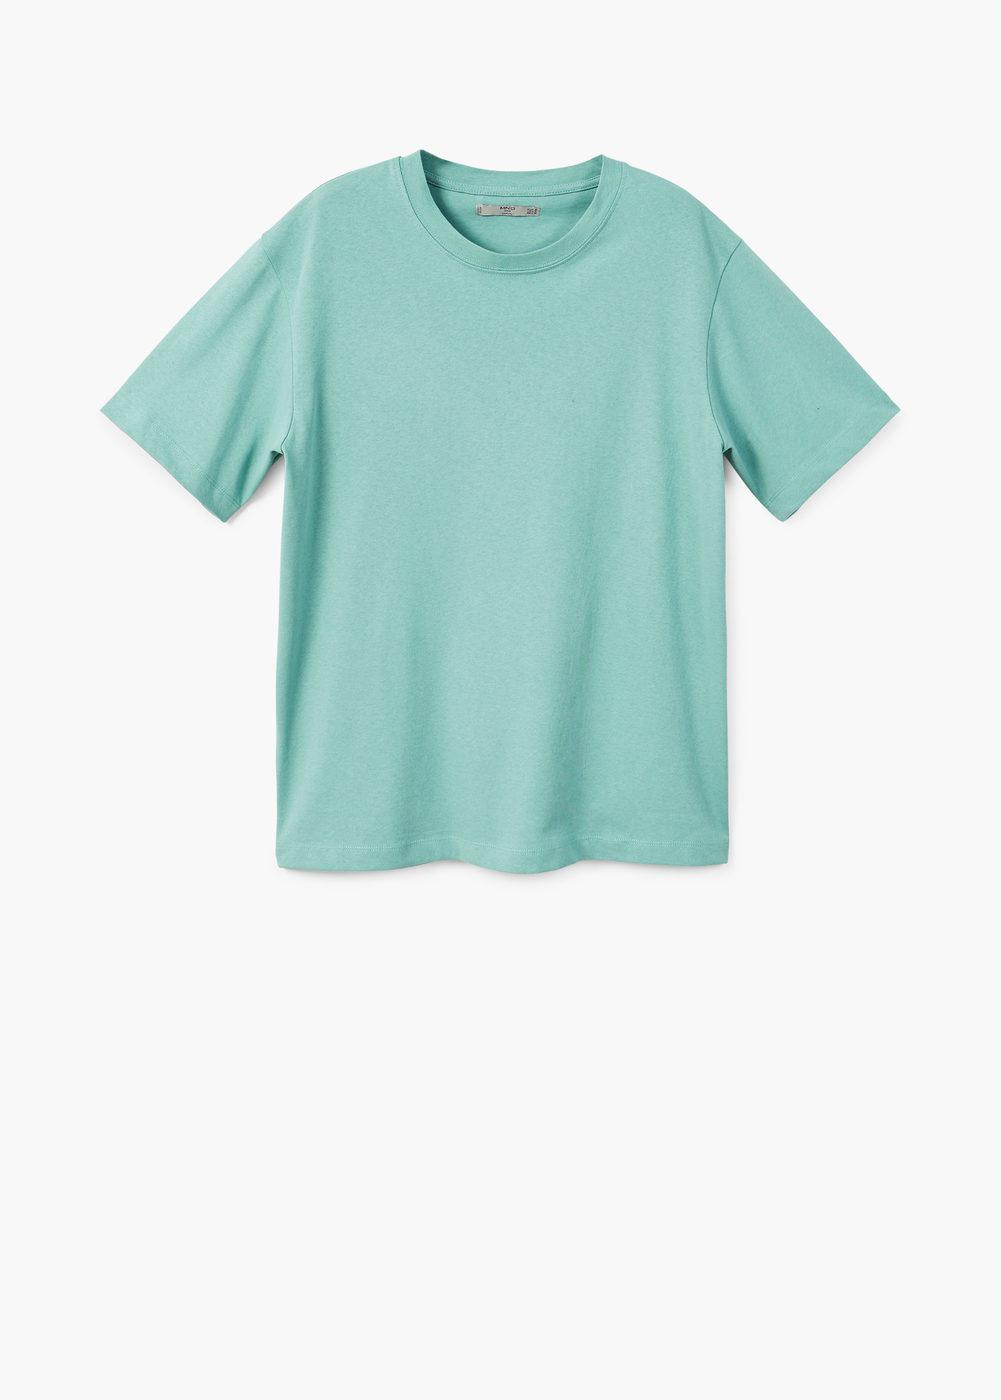teeshirt: (87, 131, 923, 876)
